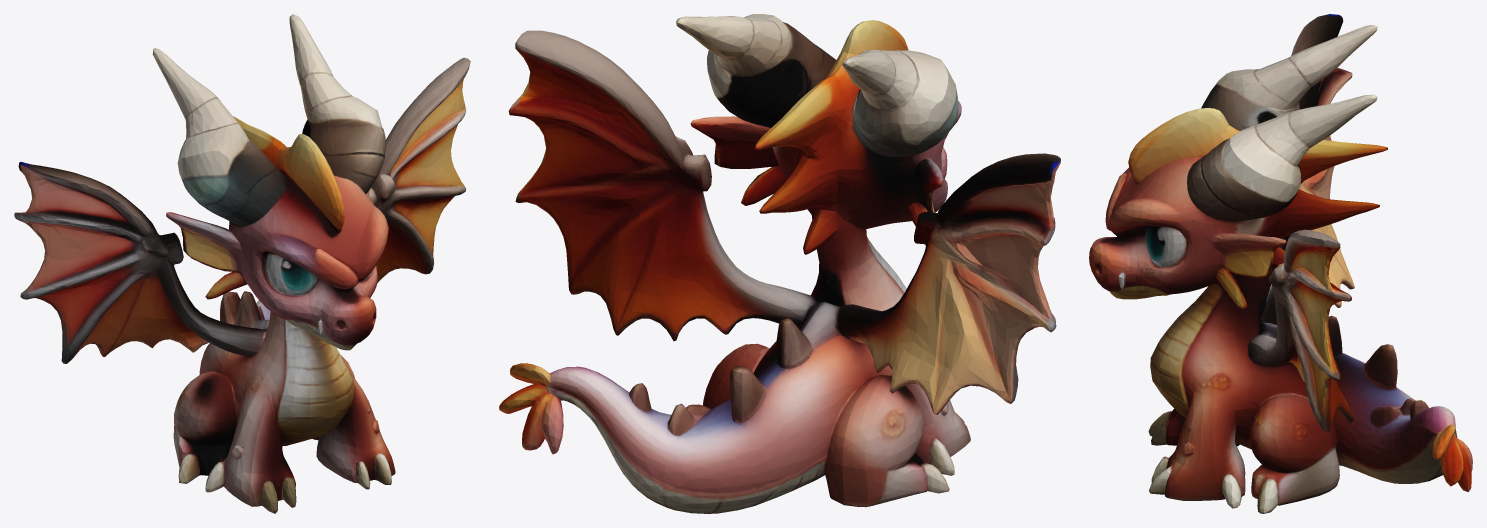
Rendered from src.glb.
The picture shows the model from 3 angles, left to right: view 1: azimuth 30°, elevation 25°; view 2: azimuth 150°, elevation 25°; view 3: azimuth 270°, elevation 25°; orthographic projection. The views are drawn at different scales.
Parts seen in each view (by area): view 1: world; view 2: world; view 3: world.
Part boxes in pixels (<box>): world: <box>14,14,470,513</box>; world: <box>499,14,1060,513</box>; world: <box>1089,14,1472,513</box>.
Size of the model in its own units: 1 by 0.8432 by 0.7234.
Materials: 1 (1 with a texture image).
